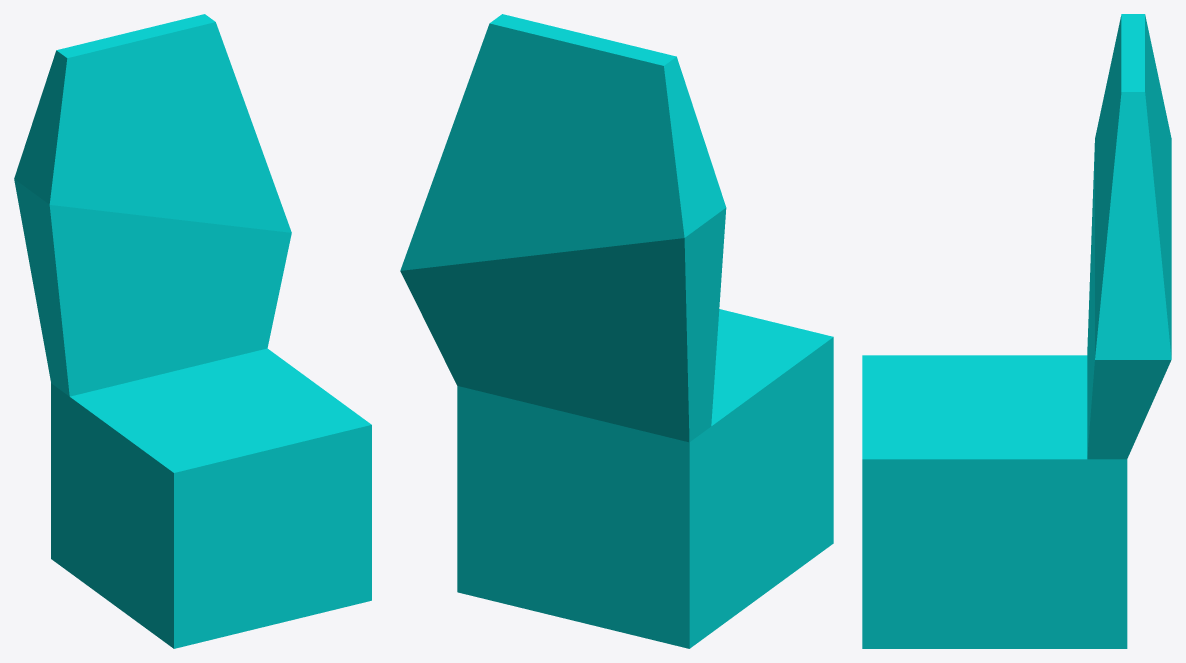
Rendered from SM_Prop_Chair_03_Collision.fbx.
3 renders of one model, left to right at view 1: azimuth 30°, elevation 25°; view 2: azimuth 150°, elevation 25°; view 3: azimuth 270°, elevation 25°, orthographic. The views are drawn at different scales.
Parts seen in each view (by area): view 1: SM_Prop_Chair_03_Collision; view 2: SM_Prop_Chair_03_Collision; view 3: SM_Prop_Chair_03_Collision.
Part boxes in pixels (x1=…): SM_Prop_Chair_03_Collision: x1=14, y1=14, x2=371, y2=648; SM_Prop_Chair_03_Collision: x1=400, y1=14, x2=833, y2=648; SM_Prop_Chair_03_Collision: x1=862, y1=14, x2=1171, y2=648.
Size of the model in its own units: 63.32 by 125 by 64.98.
